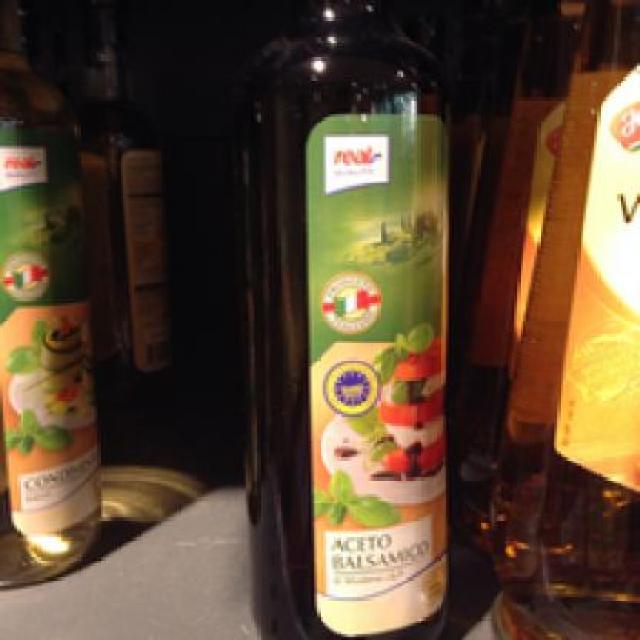Vinegar: (245, 0, 458, 637), (0, 54, 100, 597)
